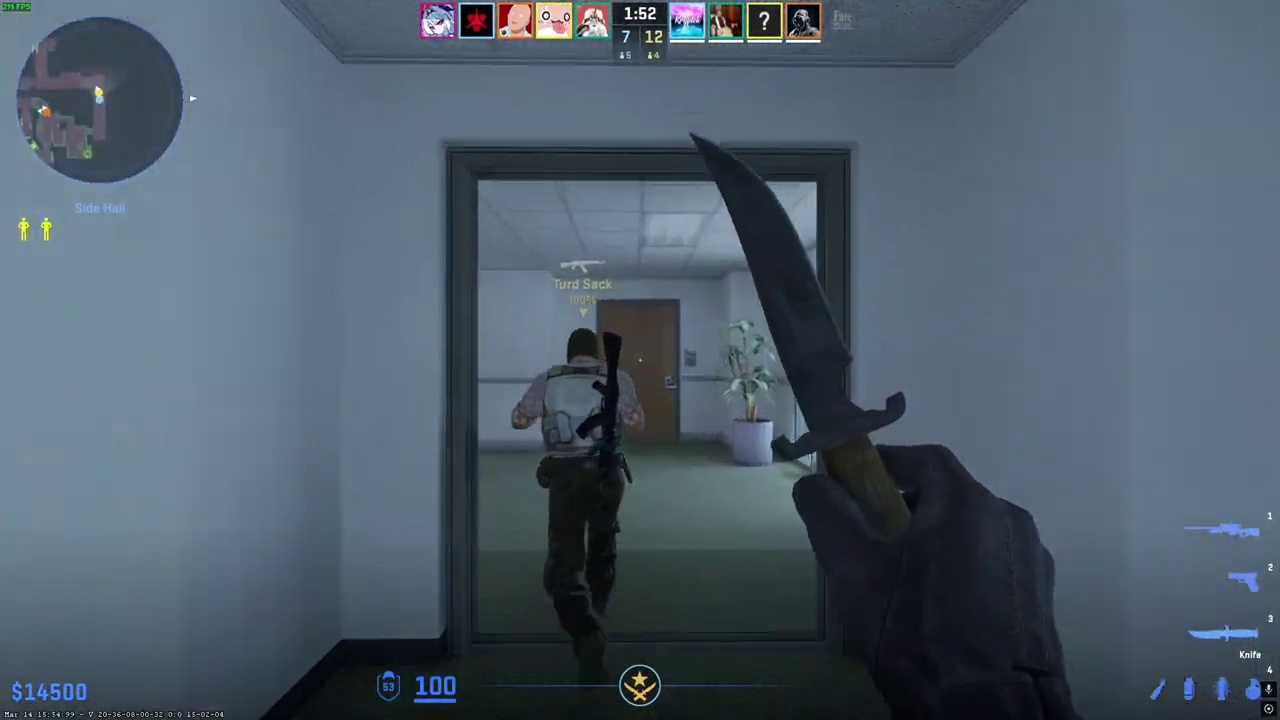Terrorist: (521, 327, 640, 683)
